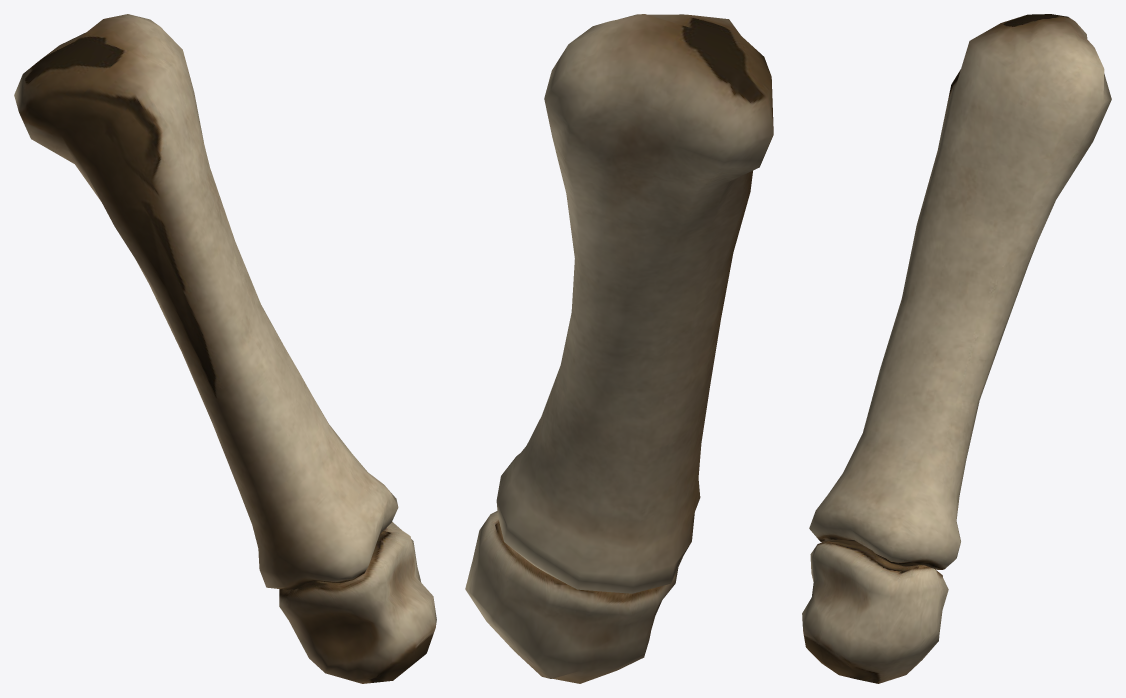
File: Metacarpal_V.glb
3 views of the same model, side by side, from view 1: azimuth 30°, elevation 25°; view 2: azimuth 150°, elevation 25°; view 3: azimuth 270°, elevation 25° (orthographic). The views are drawn at different scales.
Parts seen in each view (by area): view 1: Metacarpal_V_Left1:Group42874; view 2: Metacarpal_V_Left1:Group42874; view 3: Metacarpal_V_Left1:Group42874.
Boxes of the visible parts, left/top/right/bottom form: Metacarpal_V_Left1:Group42874: left=14, top=14, right=436, bottom=683; Metacarpal_V_Left1:Group42874: left=465, top=14, right=773, bottom=683; Metacarpal_V_Left1:Group42874: left=802, top=14, right=1111, bottom=683.
Size of the model in its own units: 23.05 by 43.32 by 20.85.
1 material, 1 textured.
